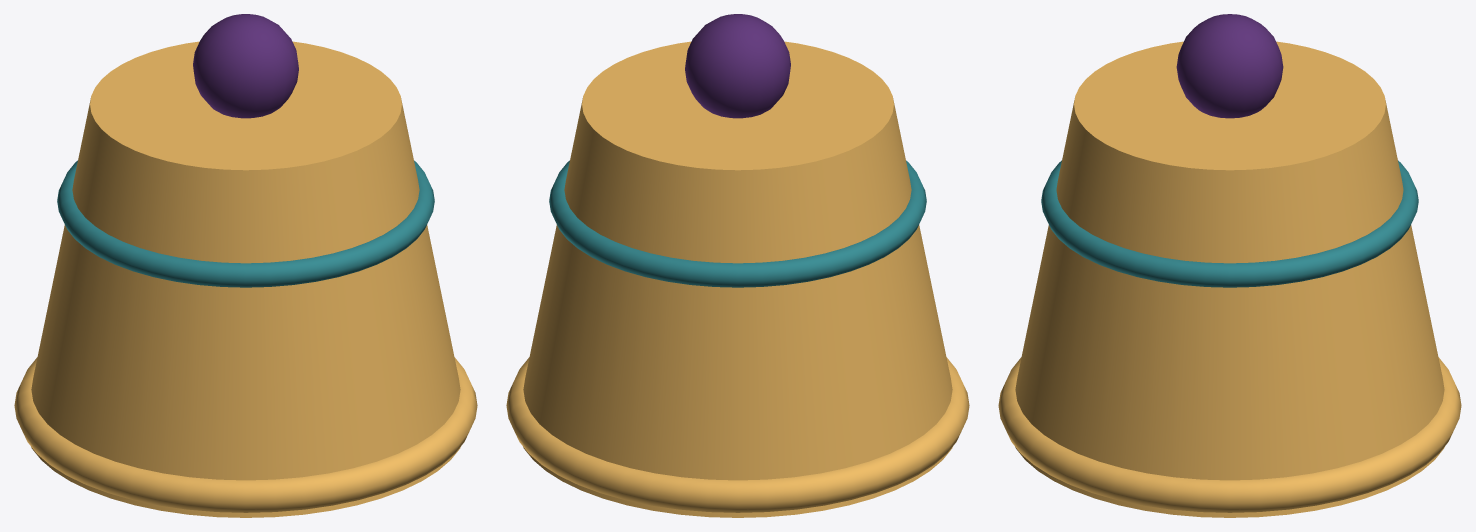
Rendered from q_trick_cup.glb.
The picture shows the model from 3 angles, left to right: view 1: azimuth 30°, elevation 25°; view 2: azimuth 150°, elevation 25°; view 3: azimuth 270°, elevation 25°; orthographic projection.
Visible parts, largest first — view 1: q_trick_cup / material batches; view 2: q_trick_cup / material batches; view 3: q_trick_cup / material batches.
Boxes of the visible parts, bbox=[...] form: q_trick_cup / material batches: bbox=[14, 14, 477, 517]; q_trick_cup / material batches: bbox=[506, 14, 969, 517]; q_trick_cup / material batches: bbox=[998, 14, 1461, 517].
Bounding box in the file's own units: 0.564 × 0.545 × 0.564.
